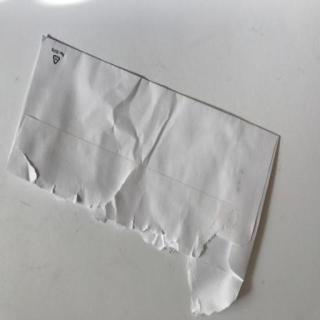Anorganik: (5, 30, 283, 318)
